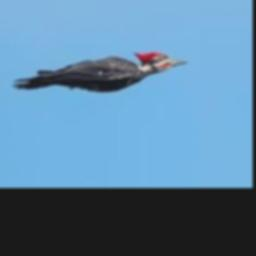Woodpecker: (11, 51, 186, 92)
